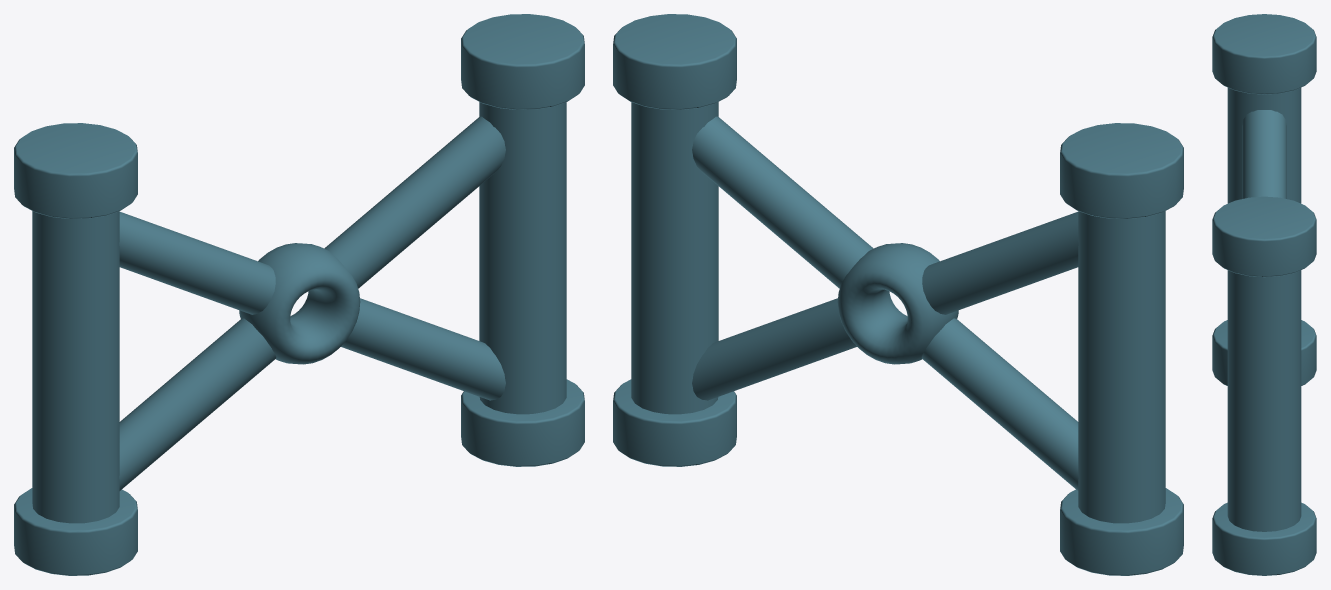
The model's file is City_13_Fence_1.glb.
3 views of the same model, side by side, from view 1: azimuth 30°, elevation 25°; view 2: azimuth 150°, elevation 25°; view 3: azimuth 270°, elevation 25° (orthographic). The views are drawn at different scales.
Visible parts, largest first — view 1: City_13_Fence_1; view 2: City_13_Fence_1; view 3: City_13_Fence_1.
Boxes of the visible parts, x1,y1,x2,y2 form: City_13_Fence_1: (14, 14, 584, 575); City_13_Fence_1: (613, 14, 1183, 575); City_13_Fence_1: (1212, 14, 1316, 575).
Bounding box in the file's own units: 1.93 × 1.34 × 0.3749.
Materials: 1 (1 with a texture image).
